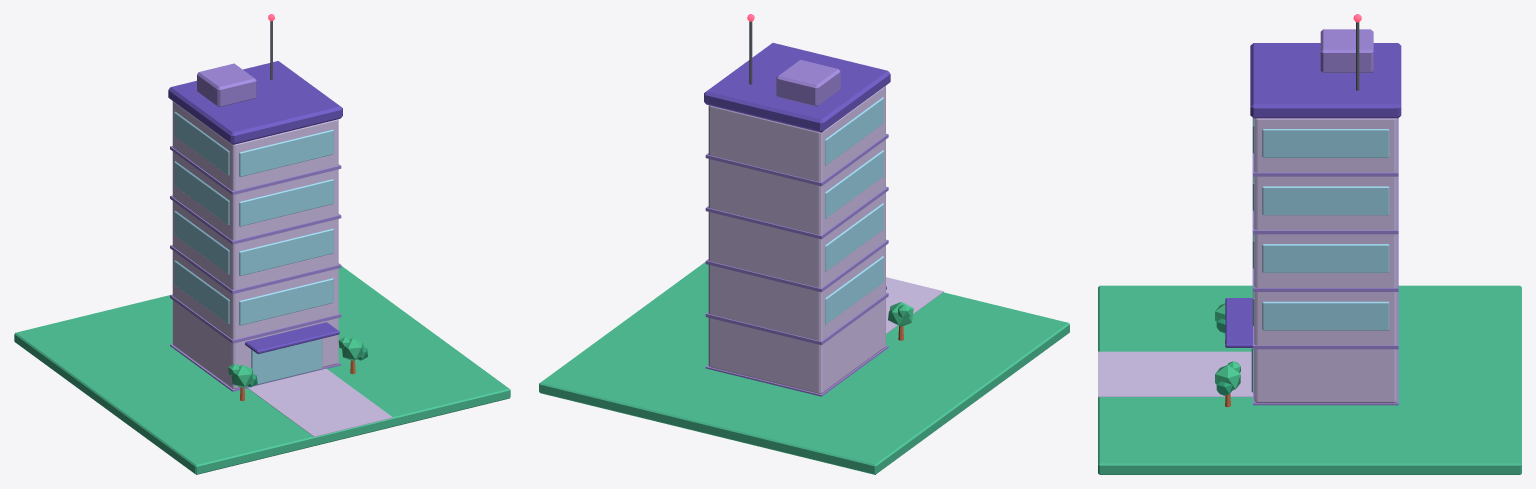
File: bld_office.glb
The picture shows the model from 3 angles, left to right: view 1: azimuth 30°, elevation 25°; view 2: azimuth 150°, elevation 25°; view 3: azimuth 270°, elevation 25°; orthographic projection. The views are drawn at different scales.
Parts seen in each view (by area): view 1: bld_office; view 2: bld_office; view 3: bld_office.
Part boxes in pixels (x1,y1,x2,y2): bld_office: (14, 14, 510, 474); bld_office: (539, 14, 1069, 474); bld_office: (1098, 14, 1521, 474).
Bounding box in the file's own units: 16 × 16.19 × 16.
